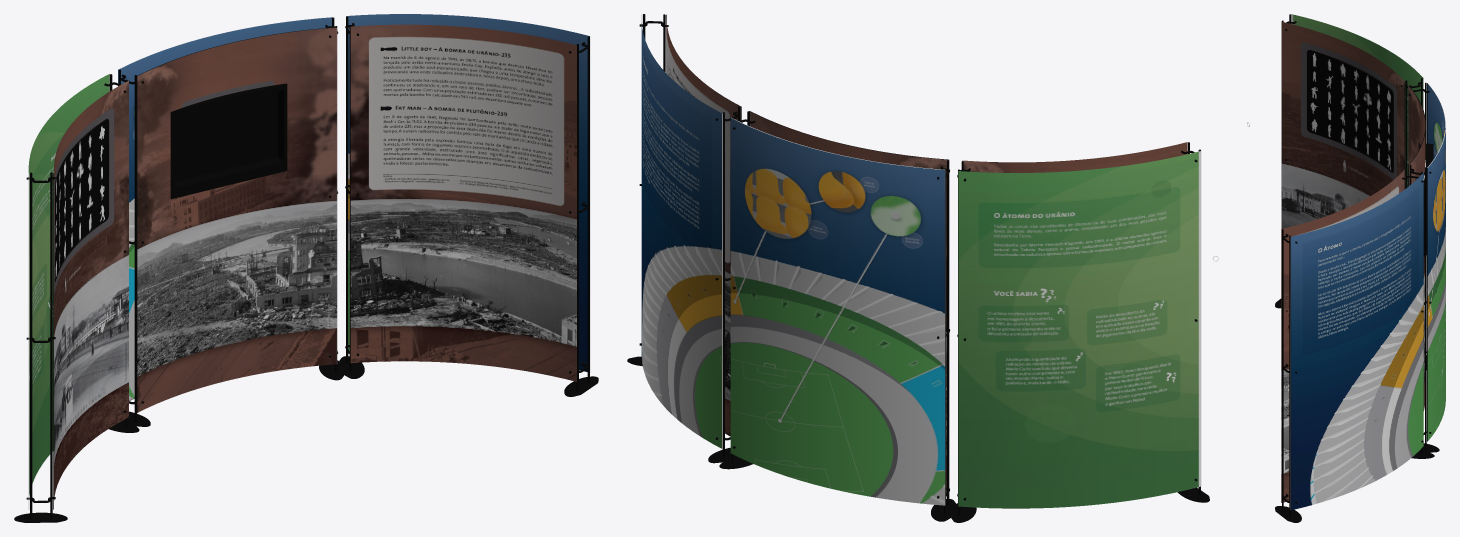
File: hiroshima.glb
3 views of the same model, side by side, from view 1: azimuth 30°, elevation 25°; view 2: azimuth 150°, elevation 25°; view 3: azimuth 270°, elevation 25° (orthographic). The views are drawn at different scales.
Parts seen in each view (by area): view 1: Object_37, Object_73, Object_11, Object_36, Object_9, Object_66; view 2: Object_36, Object_9, Object_37, Object_73; view 3: Object_36, Object_37, Object_73, Object_9, Object_11, Object_66.
Part boxes in pixels (box(x1,y1,x2,y2)): Object_37: box(54, 24, 576, 500); Object_73: box(14, 16, 598, 522); Object_11: box(53, 26, 577, 509); Object_36: box(118, 14, 589, 400); Object_9: box(28, 74, 109, 495); Object_66: box(28, 17, 590, 509); Object_36: box(641, 23, 945, 505); Object_9: box(958, 151, 1201, 508); Object_37: box(666, 19, 1188, 493); Object_73: box(627, 14, 1209, 522); Object_36: box(1291, 84, 1445, 510); Object_37: box(1281, 21, 1425, 502); Object_73: box(1275, 14, 1439, 522); Object_9: box(1291, 14, 1423, 188); Object_11: box(1281, 81, 1433, 502); Object_66: box(1290, 14, 1445, 509).
Bounding box in the file's own units: 4.38 × 2.49 × 1.59.
7 materials, 3 textured.
